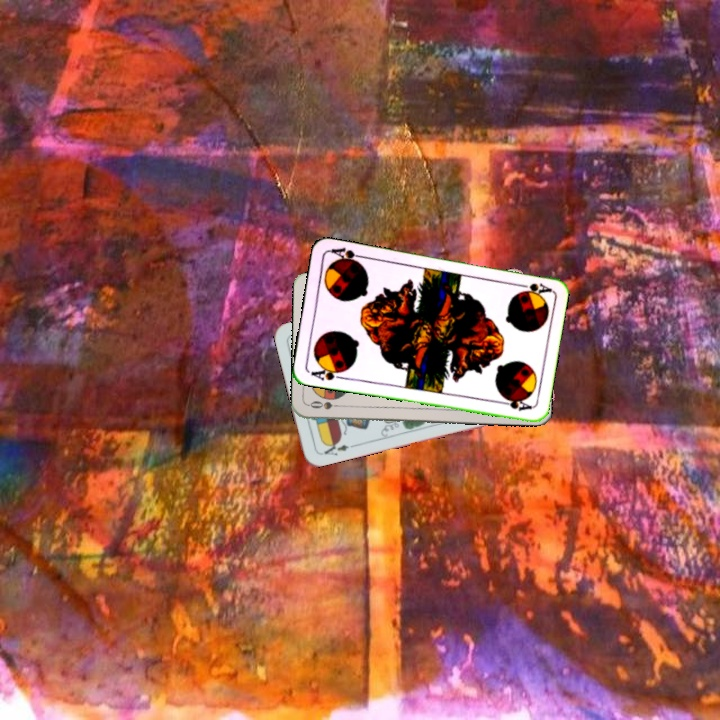EA: (317, 437, 357, 458)
SA: (307, 362, 348, 383), (512, 279, 553, 297)
SO: (306, 397, 347, 412)
